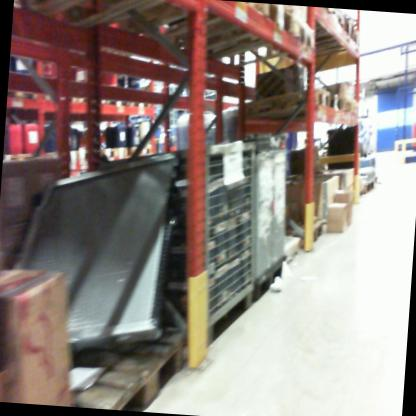pallet: (164, 9, 323, 85), (142, 0, 298, 72), (61, 332, 188, 414), (223, 81, 333, 125), (285, 18, 366, 71), (278, 8, 347, 55), (317, 85, 348, 126), (338, 88, 365, 129), (362, 175, 376, 196)
stillage: (134, 126, 263, 366)
